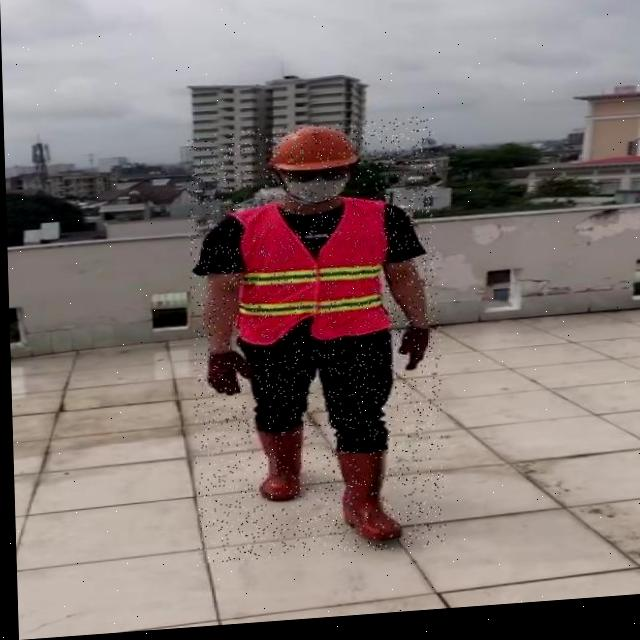Gloves: (204, 352, 248, 398), (394, 330, 427, 377)
Helmet: (266, 127, 358, 211)
Safety-Boot: (333, 448, 398, 549), (252, 422, 302, 506)
Safety-Vest: (225, 197, 392, 352)
